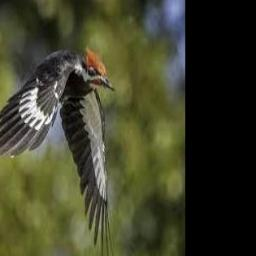Woodpecker: (0, 45, 115, 256)
